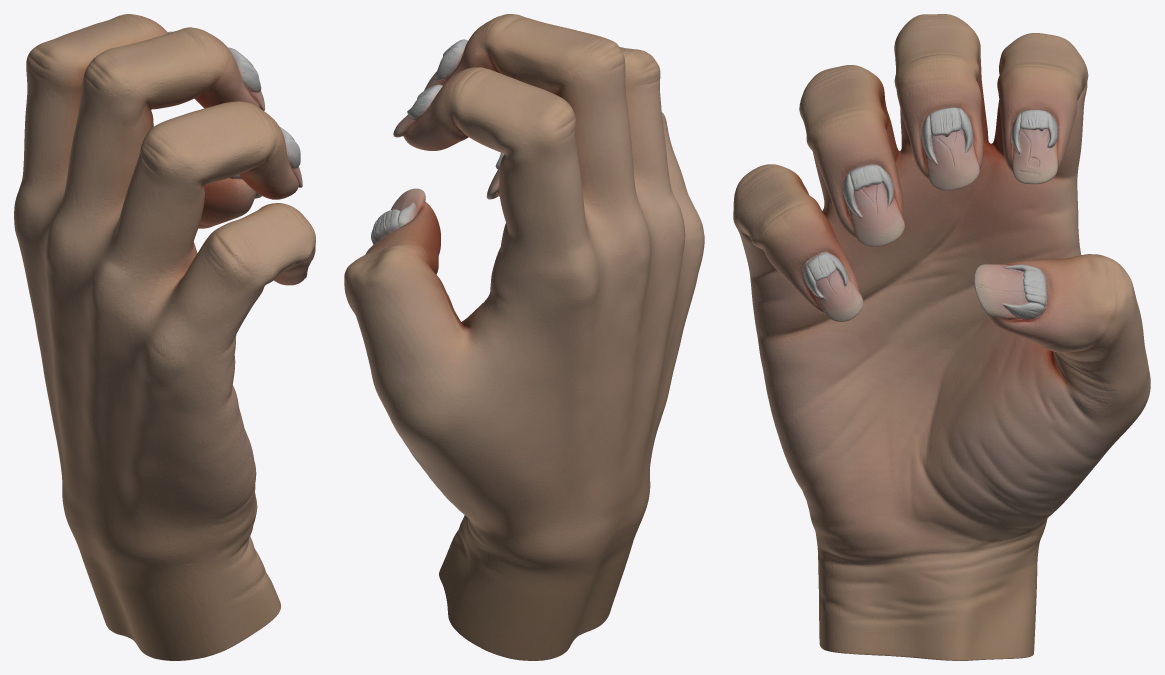
The model's file is nail+art+3d+model.opt.glb.
3 views of the same model, side by side, from view 1: azimuth 30°, elevation 25°; view 2: azimuth 150°, elevation 25°; view 3: azimuth 270°, elevation 25° (orthographic). The views are drawn at different scales.
Visible parts, largest first — view 1: tripo_node_b4f68c28-44d3-4b5c-9a76-1313a909e844; view 2: tripo_node_b4f68c28-44d3-4b5c-9a76-1313a909e844; view 3: tripo_node_b4f68c28-44d3-4b5c-9a76-1313a909e844.
Part boxes in pixels (x1,y1,x2,y2): tripo_node_b4f68c28-44d3-4b5c-9a76-1313a909e844: (14, 14, 315, 660); tripo_node_b4f68c28-44d3-4b5c-9a76-1313a909e844: (344, 14, 704, 660); tripo_node_b4f68c28-44d3-4b5c-9a76-1313a909e844: (733, 14, 1150, 660).
Bounding box in the file's own units: 0.4025 × 0.9801 × 0.5945.
1 material, 1 textured.
